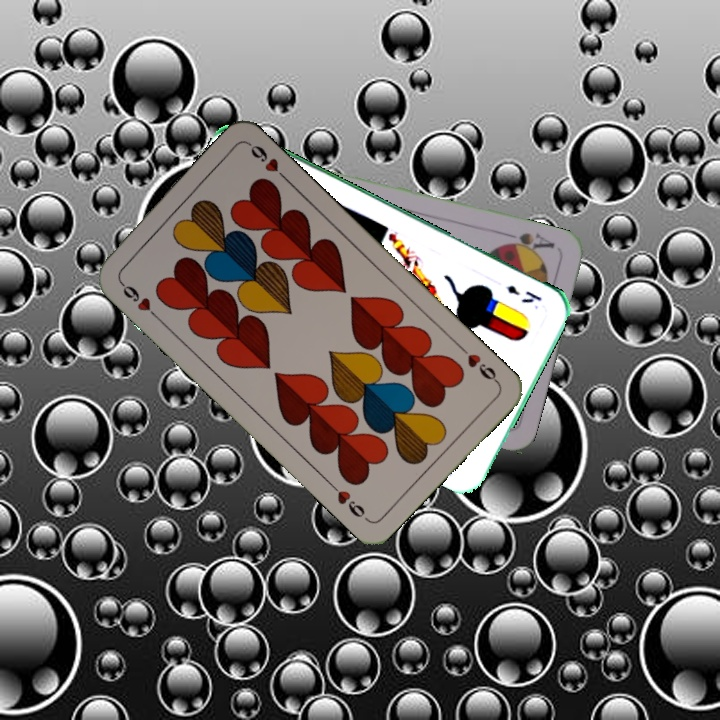EK: (502, 280, 545, 306)
H9: (115, 276, 162, 322), (455, 341, 502, 386)
SA: (500, 228, 558, 258)
